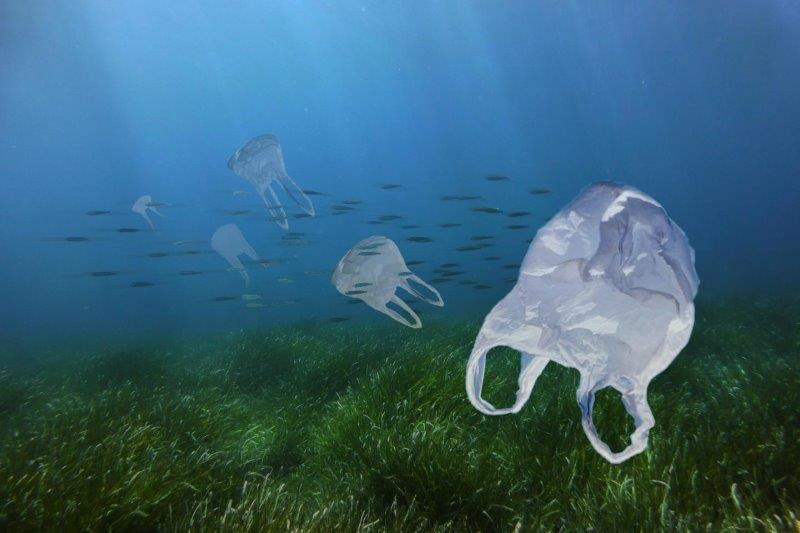plastic: (465, 178, 702, 468), (333, 237, 446, 330), (228, 130, 315, 236), (208, 224, 264, 288), (127, 193, 165, 233)
